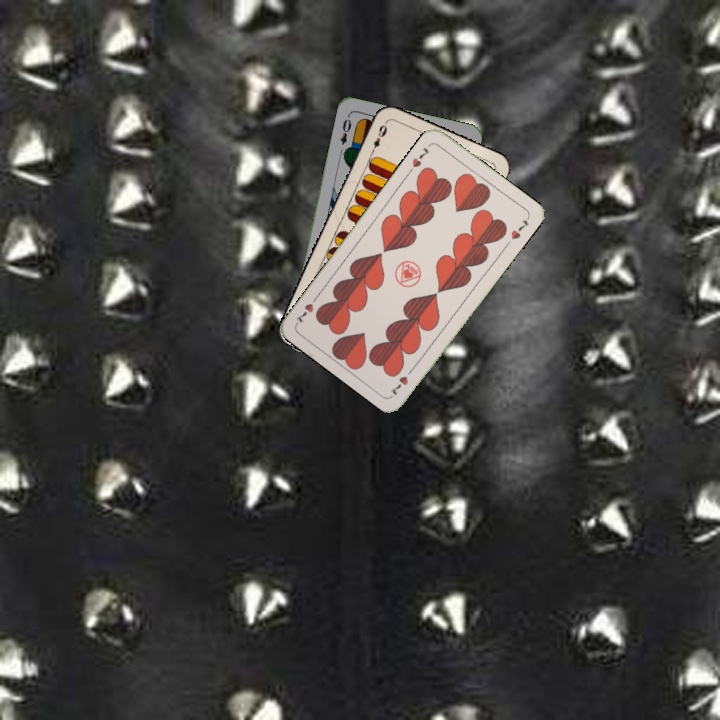E9: (367, 119, 390, 157)
EO: (336, 111, 354, 147)
H7: (386, 363, 417, 399), (408, 143, 433, 170)
